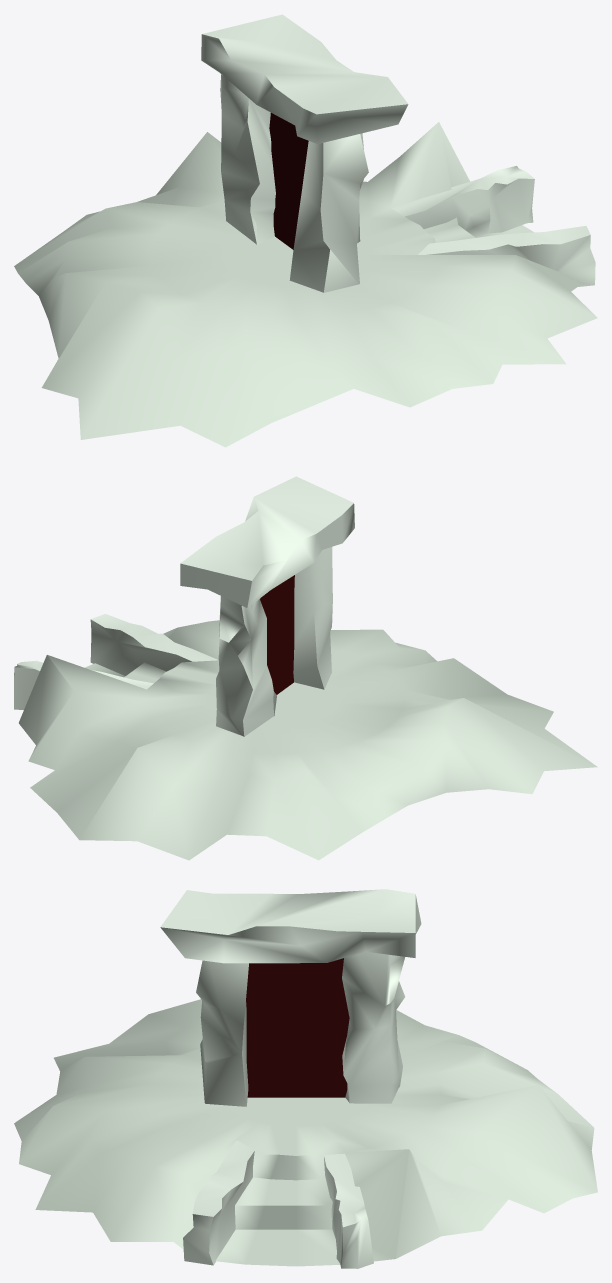
File: portal2.fbx
3 views of the same model, one above another, from view 1: azimuth 30°, elevation 25°; view 2: azimuth 150°, elevation 25°; view 3: azimuth 270°, elevation 25° (orthographic). The views are drawn at different scales.
Visible parts, largest first — view 1: Krychle_6; view 2: Krychle_6; view 3: Krychle_6.
Part boxes in pixels (x1,y1,x2,y2): Krychle_6: (14,14,597,447); Krychle_6: (14,476,597,860); Krychle_6: (14,889,597,1268).
Bounding box in the file's own units: 217 × 96.23 × 200.
